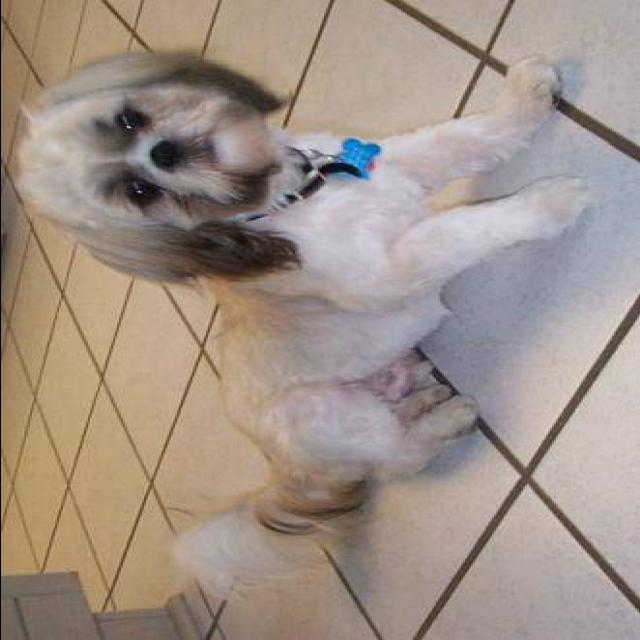dog: (0, 44, 600, 594)
